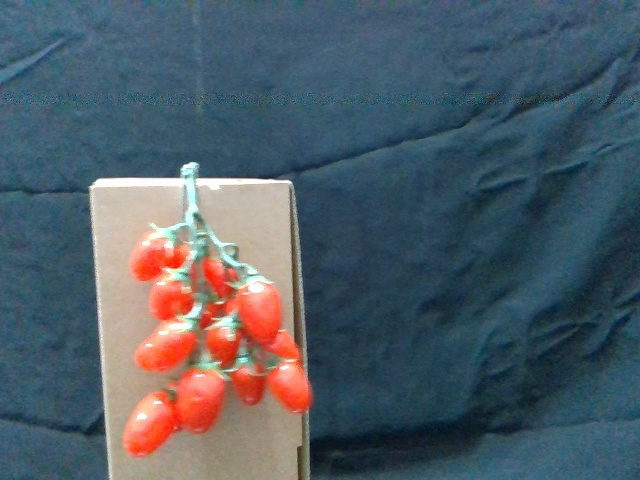tomato: (125, 386, 178, 457), (135, 315, 196, 373), (179, 365, 228, 433), (128, 221, 180, 281), (238, 274, 282, 341), (150, 265, 196, 319), (270, 361, 312, 411), (232, 351, 268, 408), (206, 314, 243, 364), (268, 324, 303, 361)
